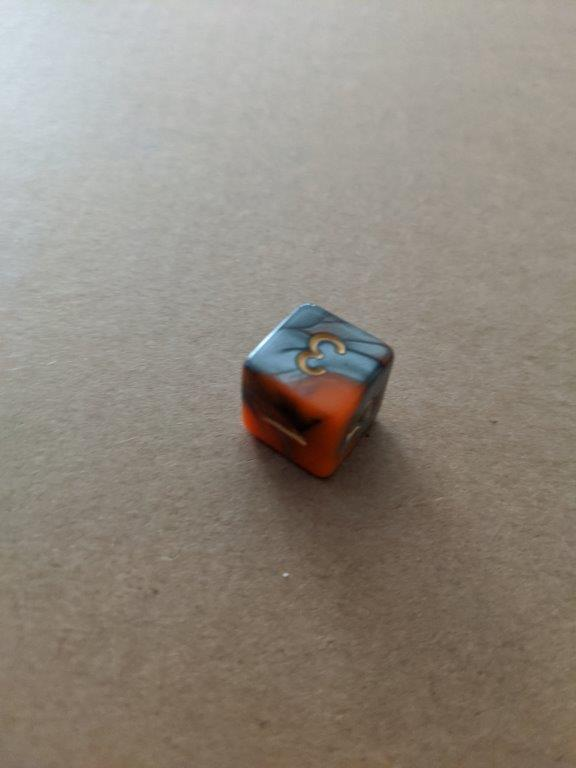d6-3: (241, 304, 397, 479)
